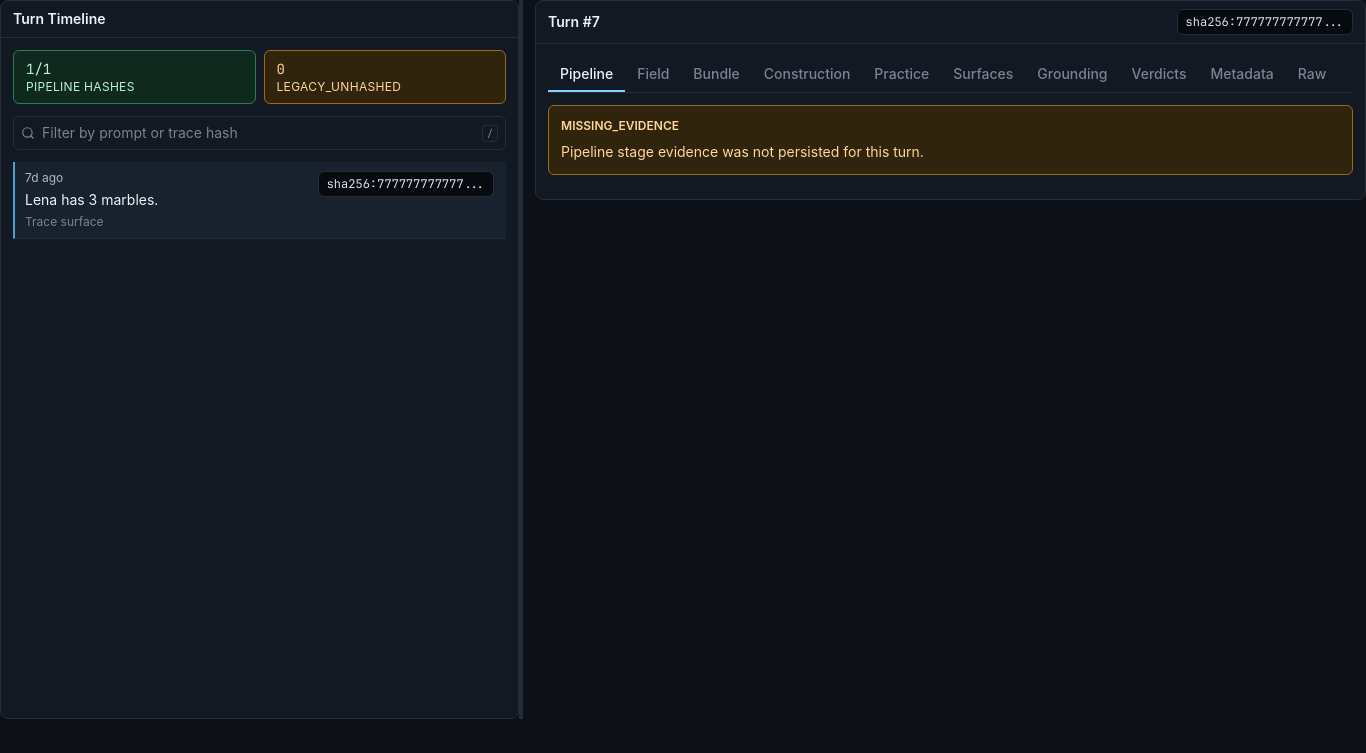
Test case: TraceRoute practice tab › renders recorded practice evidence
Click the tab "Practice" at (902, 74), box top-left (862, 56), bottom-right (941, 92)
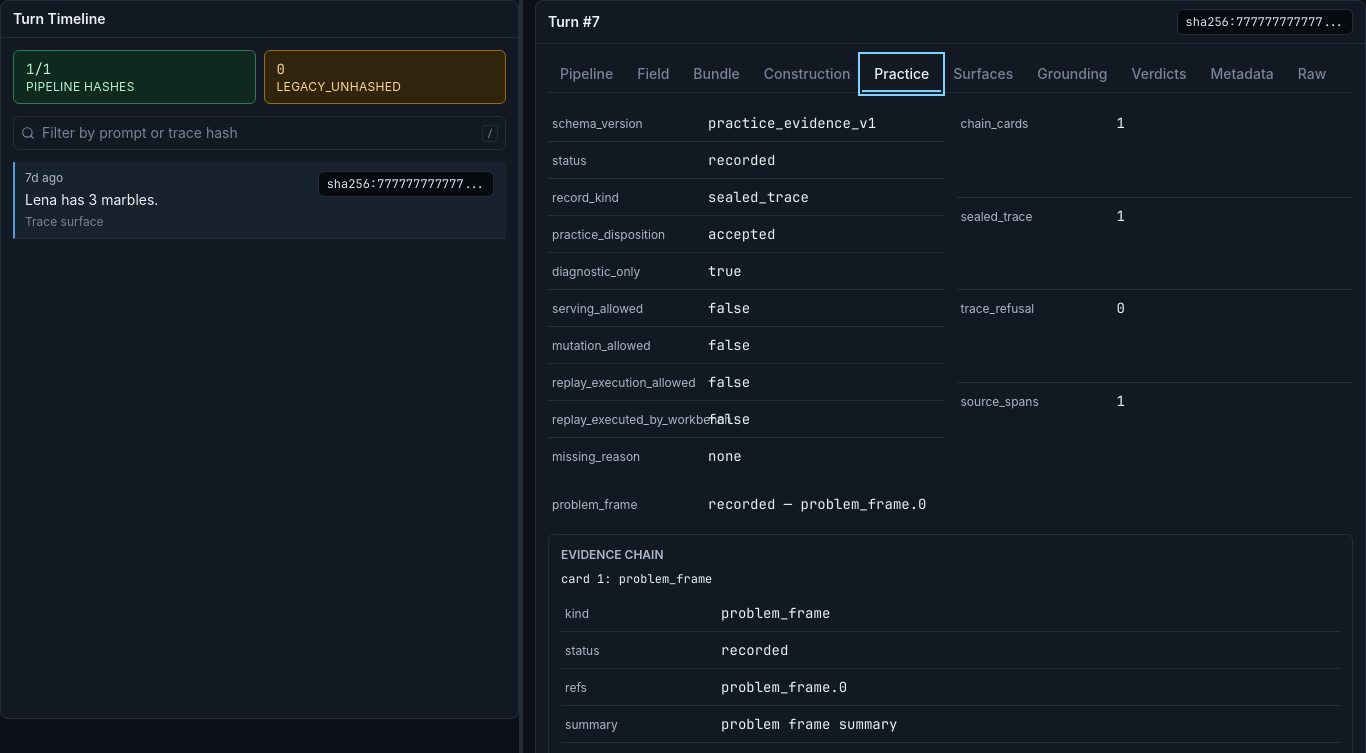
Check: the text "problem_frame" next to "recorded — problem_frame.0" is shown, box top-left (552, 497), bottom-right (637, 512)
Check: the text "problem frame summary" is shown, box top-left (721, 715), bottom-right (898, 733)
Check: the text "diagnostic_only" is shown, box top-left (552, 264), bottom-right (640, 279)
